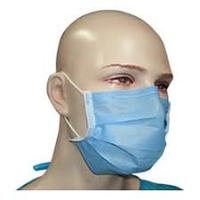flu mask: (73, 86, 168, 180)
